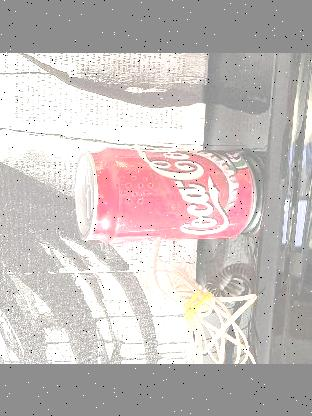Can: (74, 144, 260, 244)
